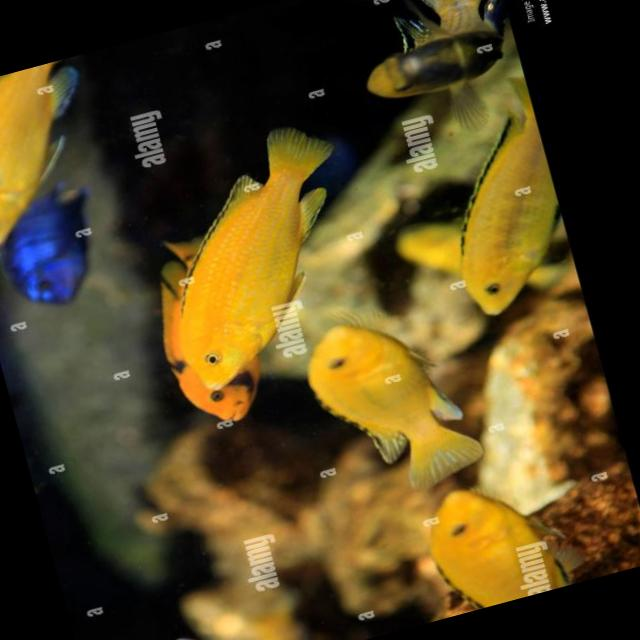YellowCichlid: (127, 111, 365, 385), (288, 285, 500, 510), (417, 114, 578, 320), (0, 58, 105, 264)
